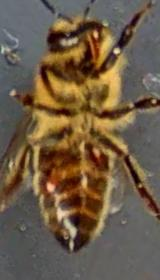varroa_mite: (26, 159, 66, 204), (80, 131, 116, 177)
